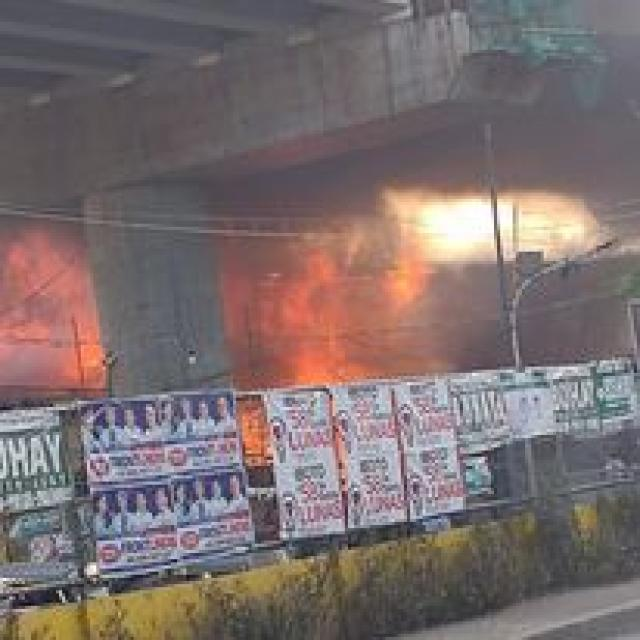Fire: (224, 226, 443, 387), (6, 216, 119, 401)
